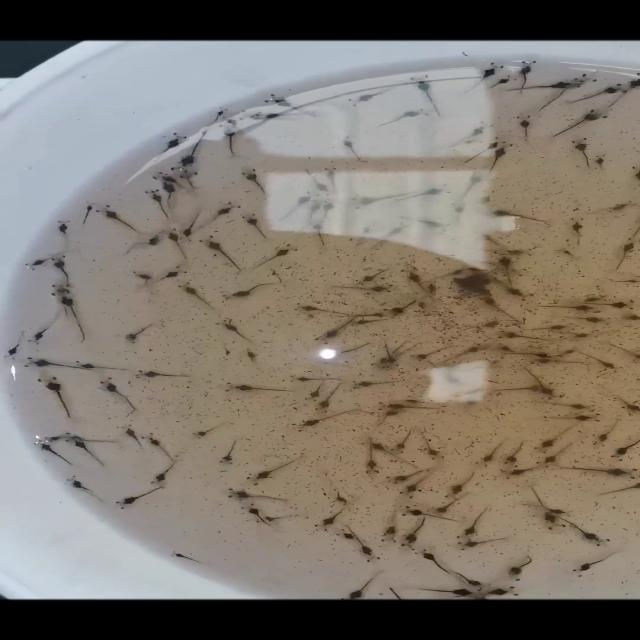shrimp2: (242, 452, 312, 487), (32, 376, 80, 417), (567, 549, 625, 579), (96, 376, 139, 414), (251, 242, 302, 274), (455, 503, 492, 543), (219, 280, 279, 304), (112, 486, 166, 512), (500, 551, 542, 583), (236, 164, 272, 198), (469, 437, 506, 470), (141, 430, 178, 462), (345, 86, 398, 108), (484, 208, 551, 225), (376, 107, 430, 128), (177, 280, 213, 310), (222, 381, 296, 395), (417, 430, 448, 463), (217, 318, 255, 344), (219, 433, 247, 468), (189, 418, 231, 441), (239, 212, 272, 240), (336, 134, 366, 163), (458, 172, 488, 200), (565, 214, 589, 246), (131, 369, 194, 381), (390, 428, 416, 454), (516, 111, 536, 144), (347, 380, 410, 389), (289, 373, 343, 383), (593, 152, 609, 173)
